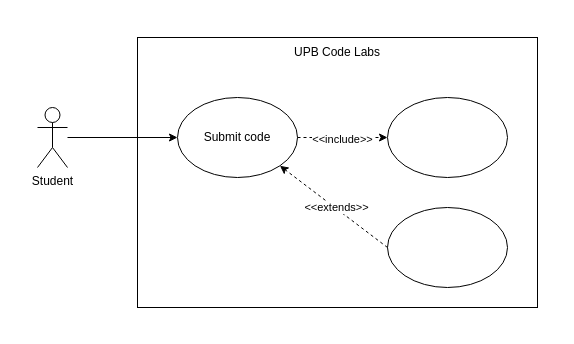
The diagram is 574 pixels wide and 344 high, and some of its shapes have lost their labels. The centre of each missing label's shape, as x and y in pixels:
See tests results: point 447,247
Submit source file(s): point 447,137
